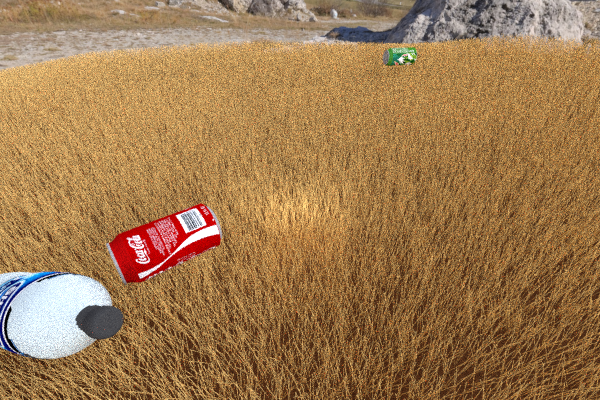Plastic Bottle: (0, 271, 123, 359), (106, 203, 222, 284), (382, 47, 417, 65)
